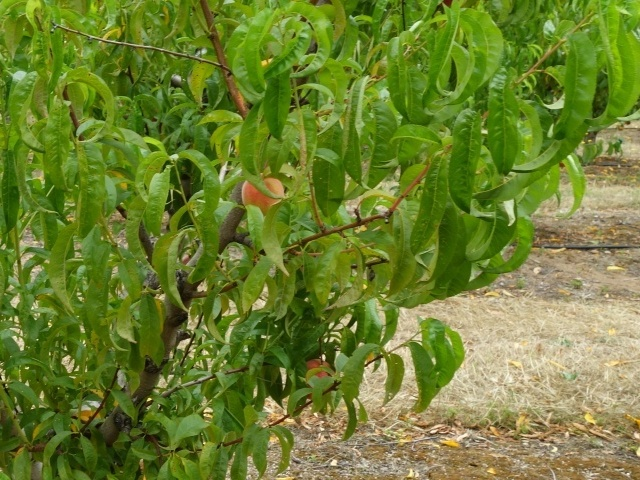peach: (236, 173, 286, 215), (299, 355, 340, 396)
